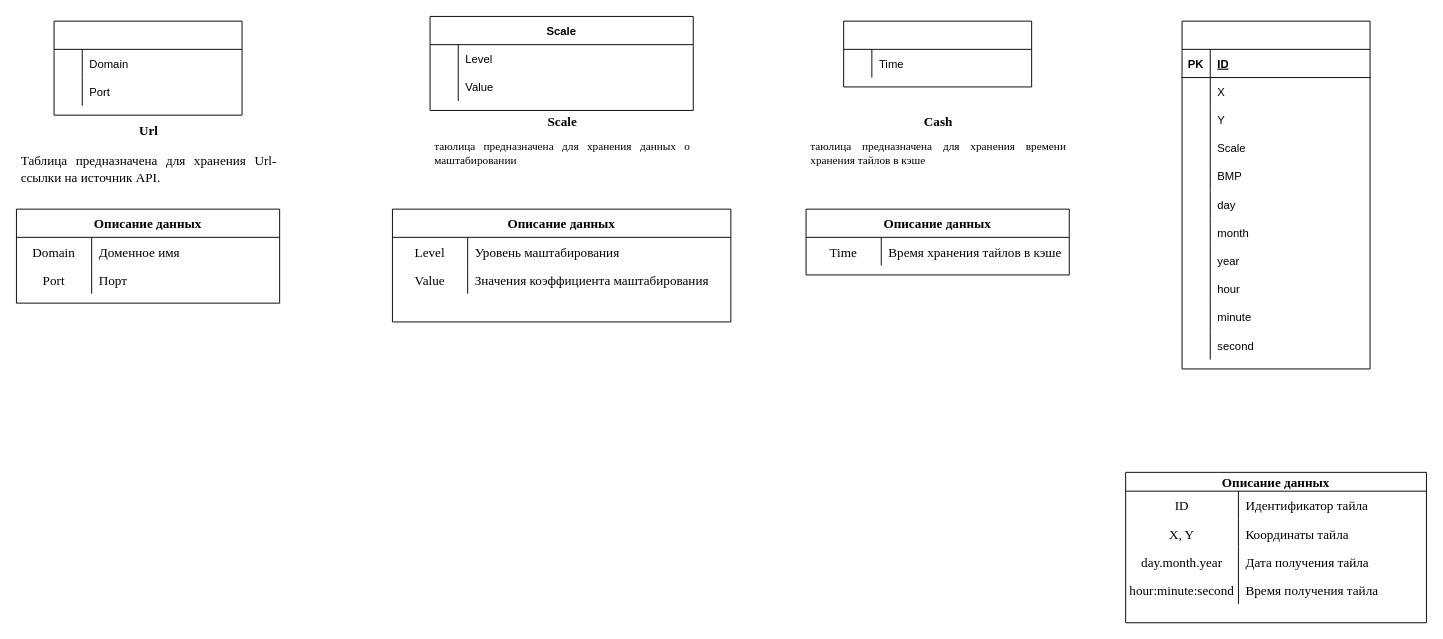
Image size: 1443x639. Some labels were removed from this diagram. Each missing label, with the box of its shape:
Cash: (843, 20, 1032, 87)
Table: (1181, 20, 1370, 369)
Url: (53, 20, 242, 115)
